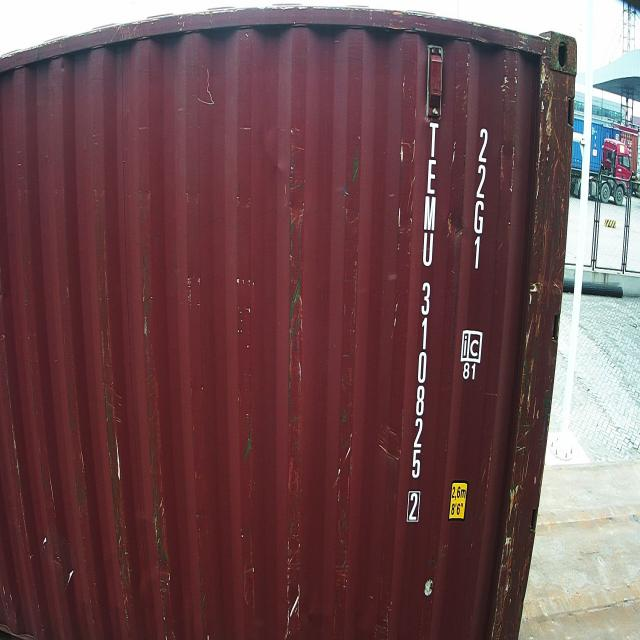container-number: (407, 120, 442, 526)
